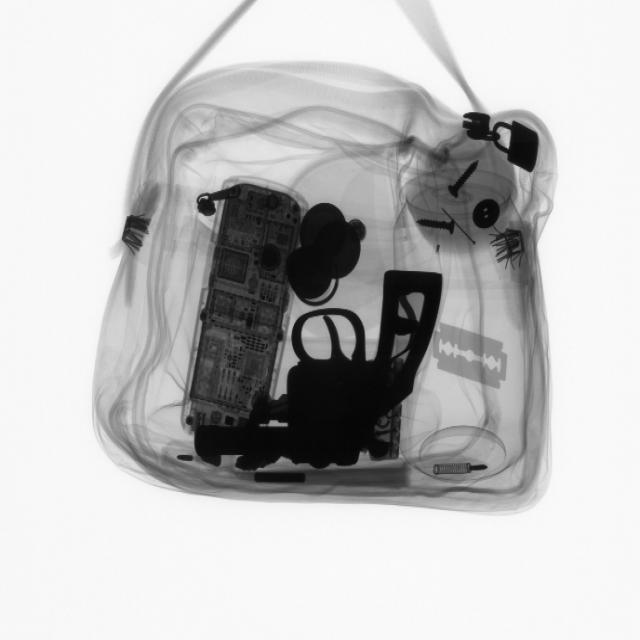BLADE: (433, 322, 515, 394)
GUN: (198, 260, 436, 469)
SCREW: (443, 159, 487, 206), (412, 210, 462, 243)
